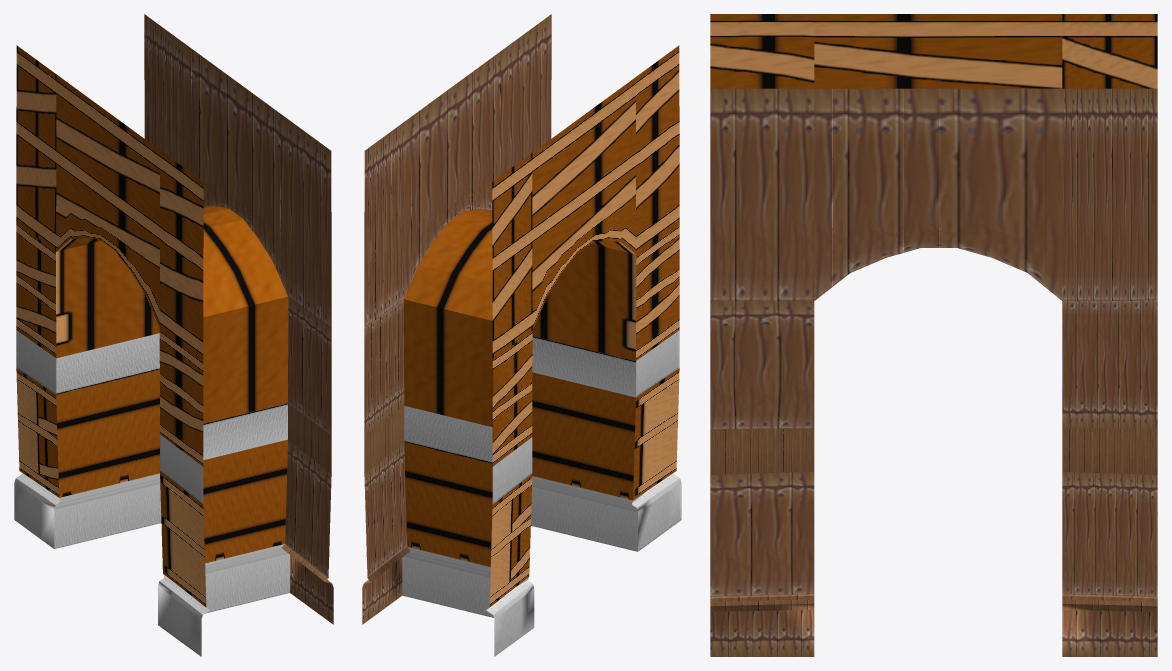
Rendered from InternalArchBasementAccess.fbx.
3 renders of one model, left to right at view 1: azimuth 30°, elevation 25°; view 2: azimuth 150°, elevation 25°; view 3: azimuth 270°, elevation 25°, orthographic. The views are drawn at different scales.
Visible parts, largest first — view 1: InteriorWall_entrance001; view 2: InteriorWall_entrance001; view 3: InteriorWall_entrance001.
Part boxes in pixels (<box>): InteriorWall_entrance001: <box>14,14,333,656</box>; InteriorWall_entrance001: <box>362,14,681,656</box>; InteriorWall_entrance001: <box>710,14,1157,656</box>.
Bounding box in the file's own units: 80.22 × 276 × 197.
